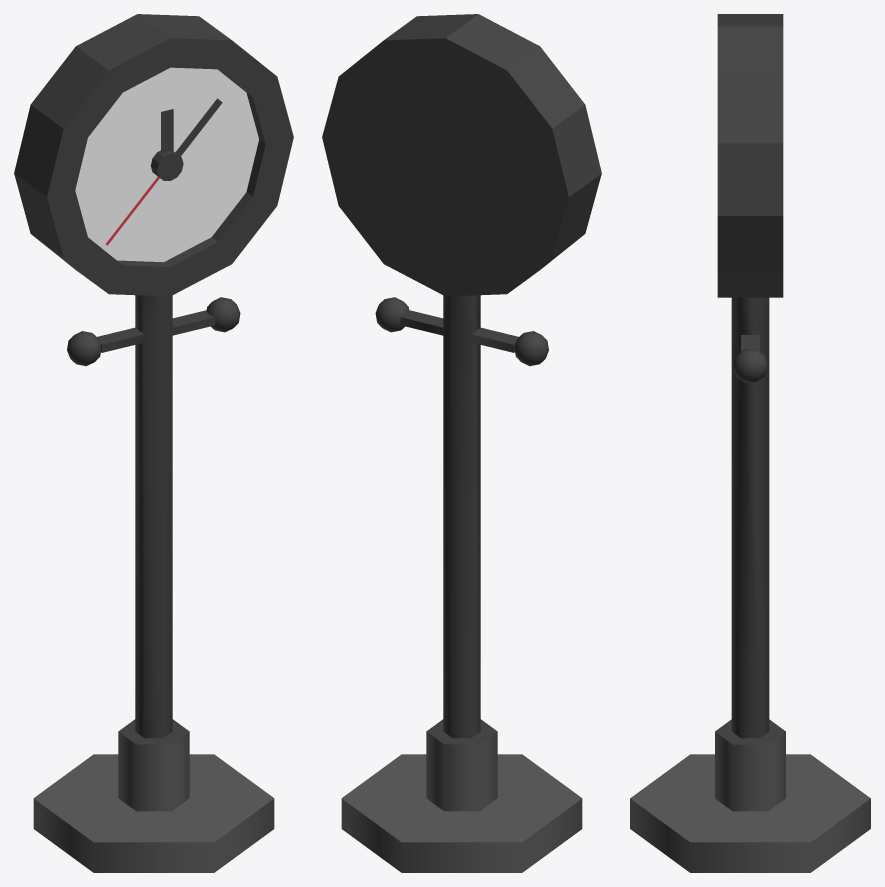
The model's file is Clock.FBX.
The picture shows the model from 3 angles, left to right: view 1: azimuth 30°, elevation 25°; view 2: azimuth 150°, elevation 25°; view 3: azimuth 270°, elevation 25°; orthographic projection.
Parts seen in each view (by area): view 1: Clock; view 2: Clock; view 3: Clock.
Part boxes in pixels (x1,y1,x2,y2): Clock: [14, 14, 293, 872]; Clock: [322, 14, 601, 872]; Clock: [630, 14, 870, 872].
Bounding box in the file's own units: 45.09 × 140 × 38.12.
